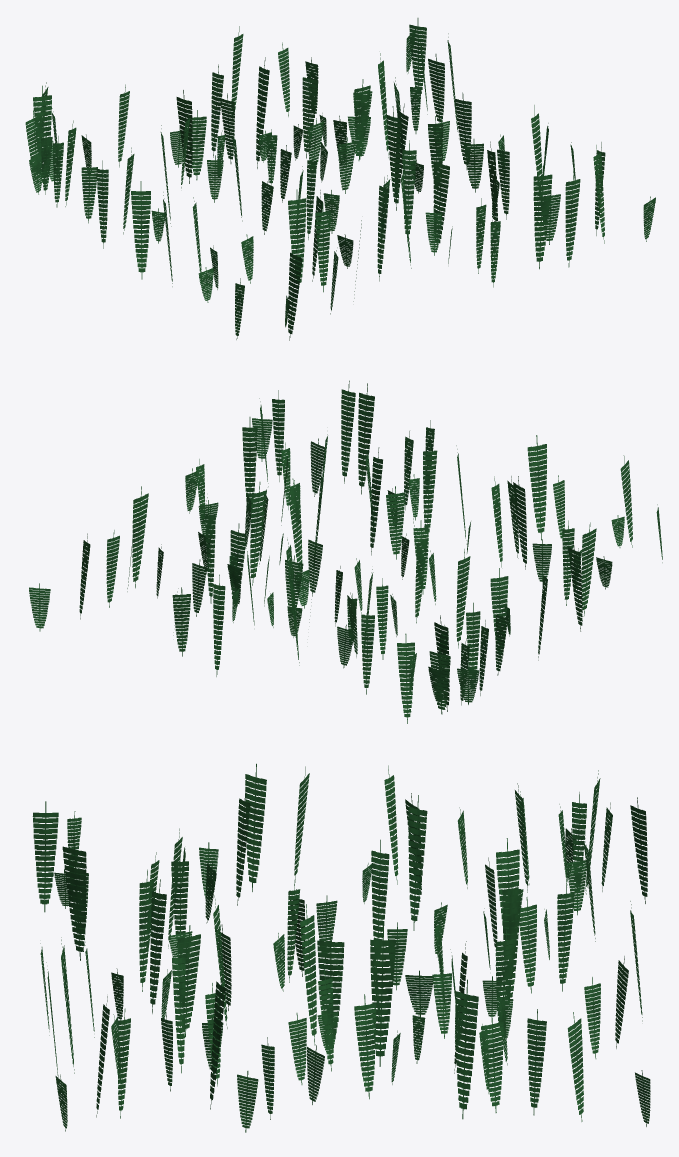
File: grass_cluster.glb
3 views of the same model, one above another, from view 1: azimuth 30°, elevation 25°; view 2: azimuth 150°, elevation 25°; view 3: azimuth 270°, elevation 25° (orthographic). The views are drawn at different scales.
Parts seen in each view (by area): view 1: meadow plants; view 2: meadow plants; view 3: meadow plants.
Boxes of the visible parts, x1,y1,x2,y2 form: meadow plants: (25,18,655,340); meadow plants: (29,380,662,723); meadow plants: (32,763,650,1132).
Bounding box in the file's own units: 1.89 × 0.4543 × 1.87.
1 material, 1 textured.
